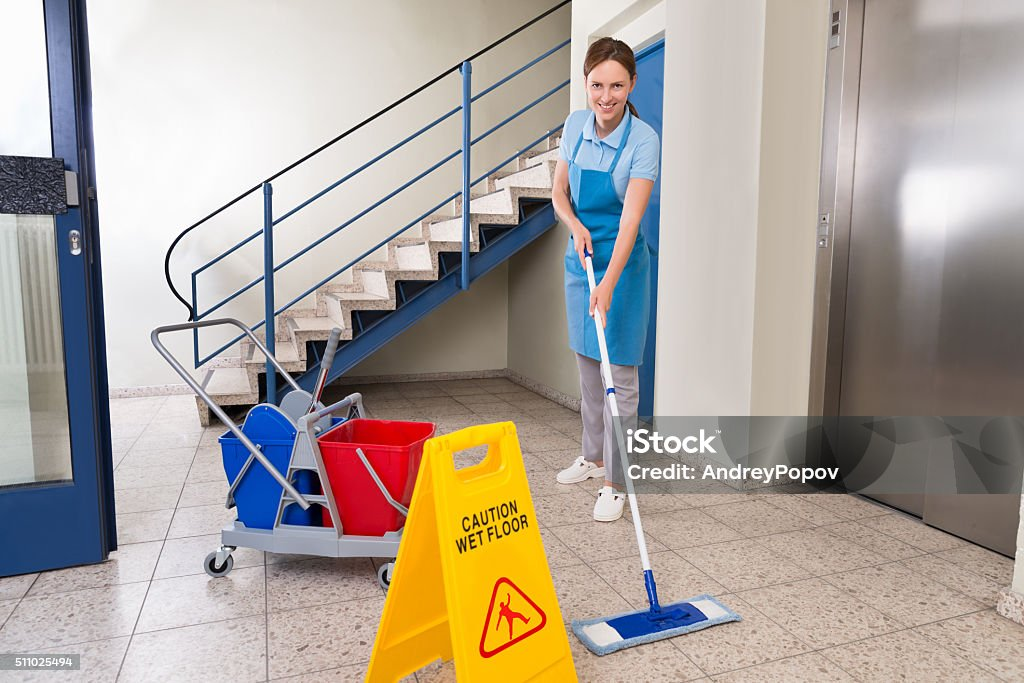wet caution sign: (385, 437, 545, 683)
